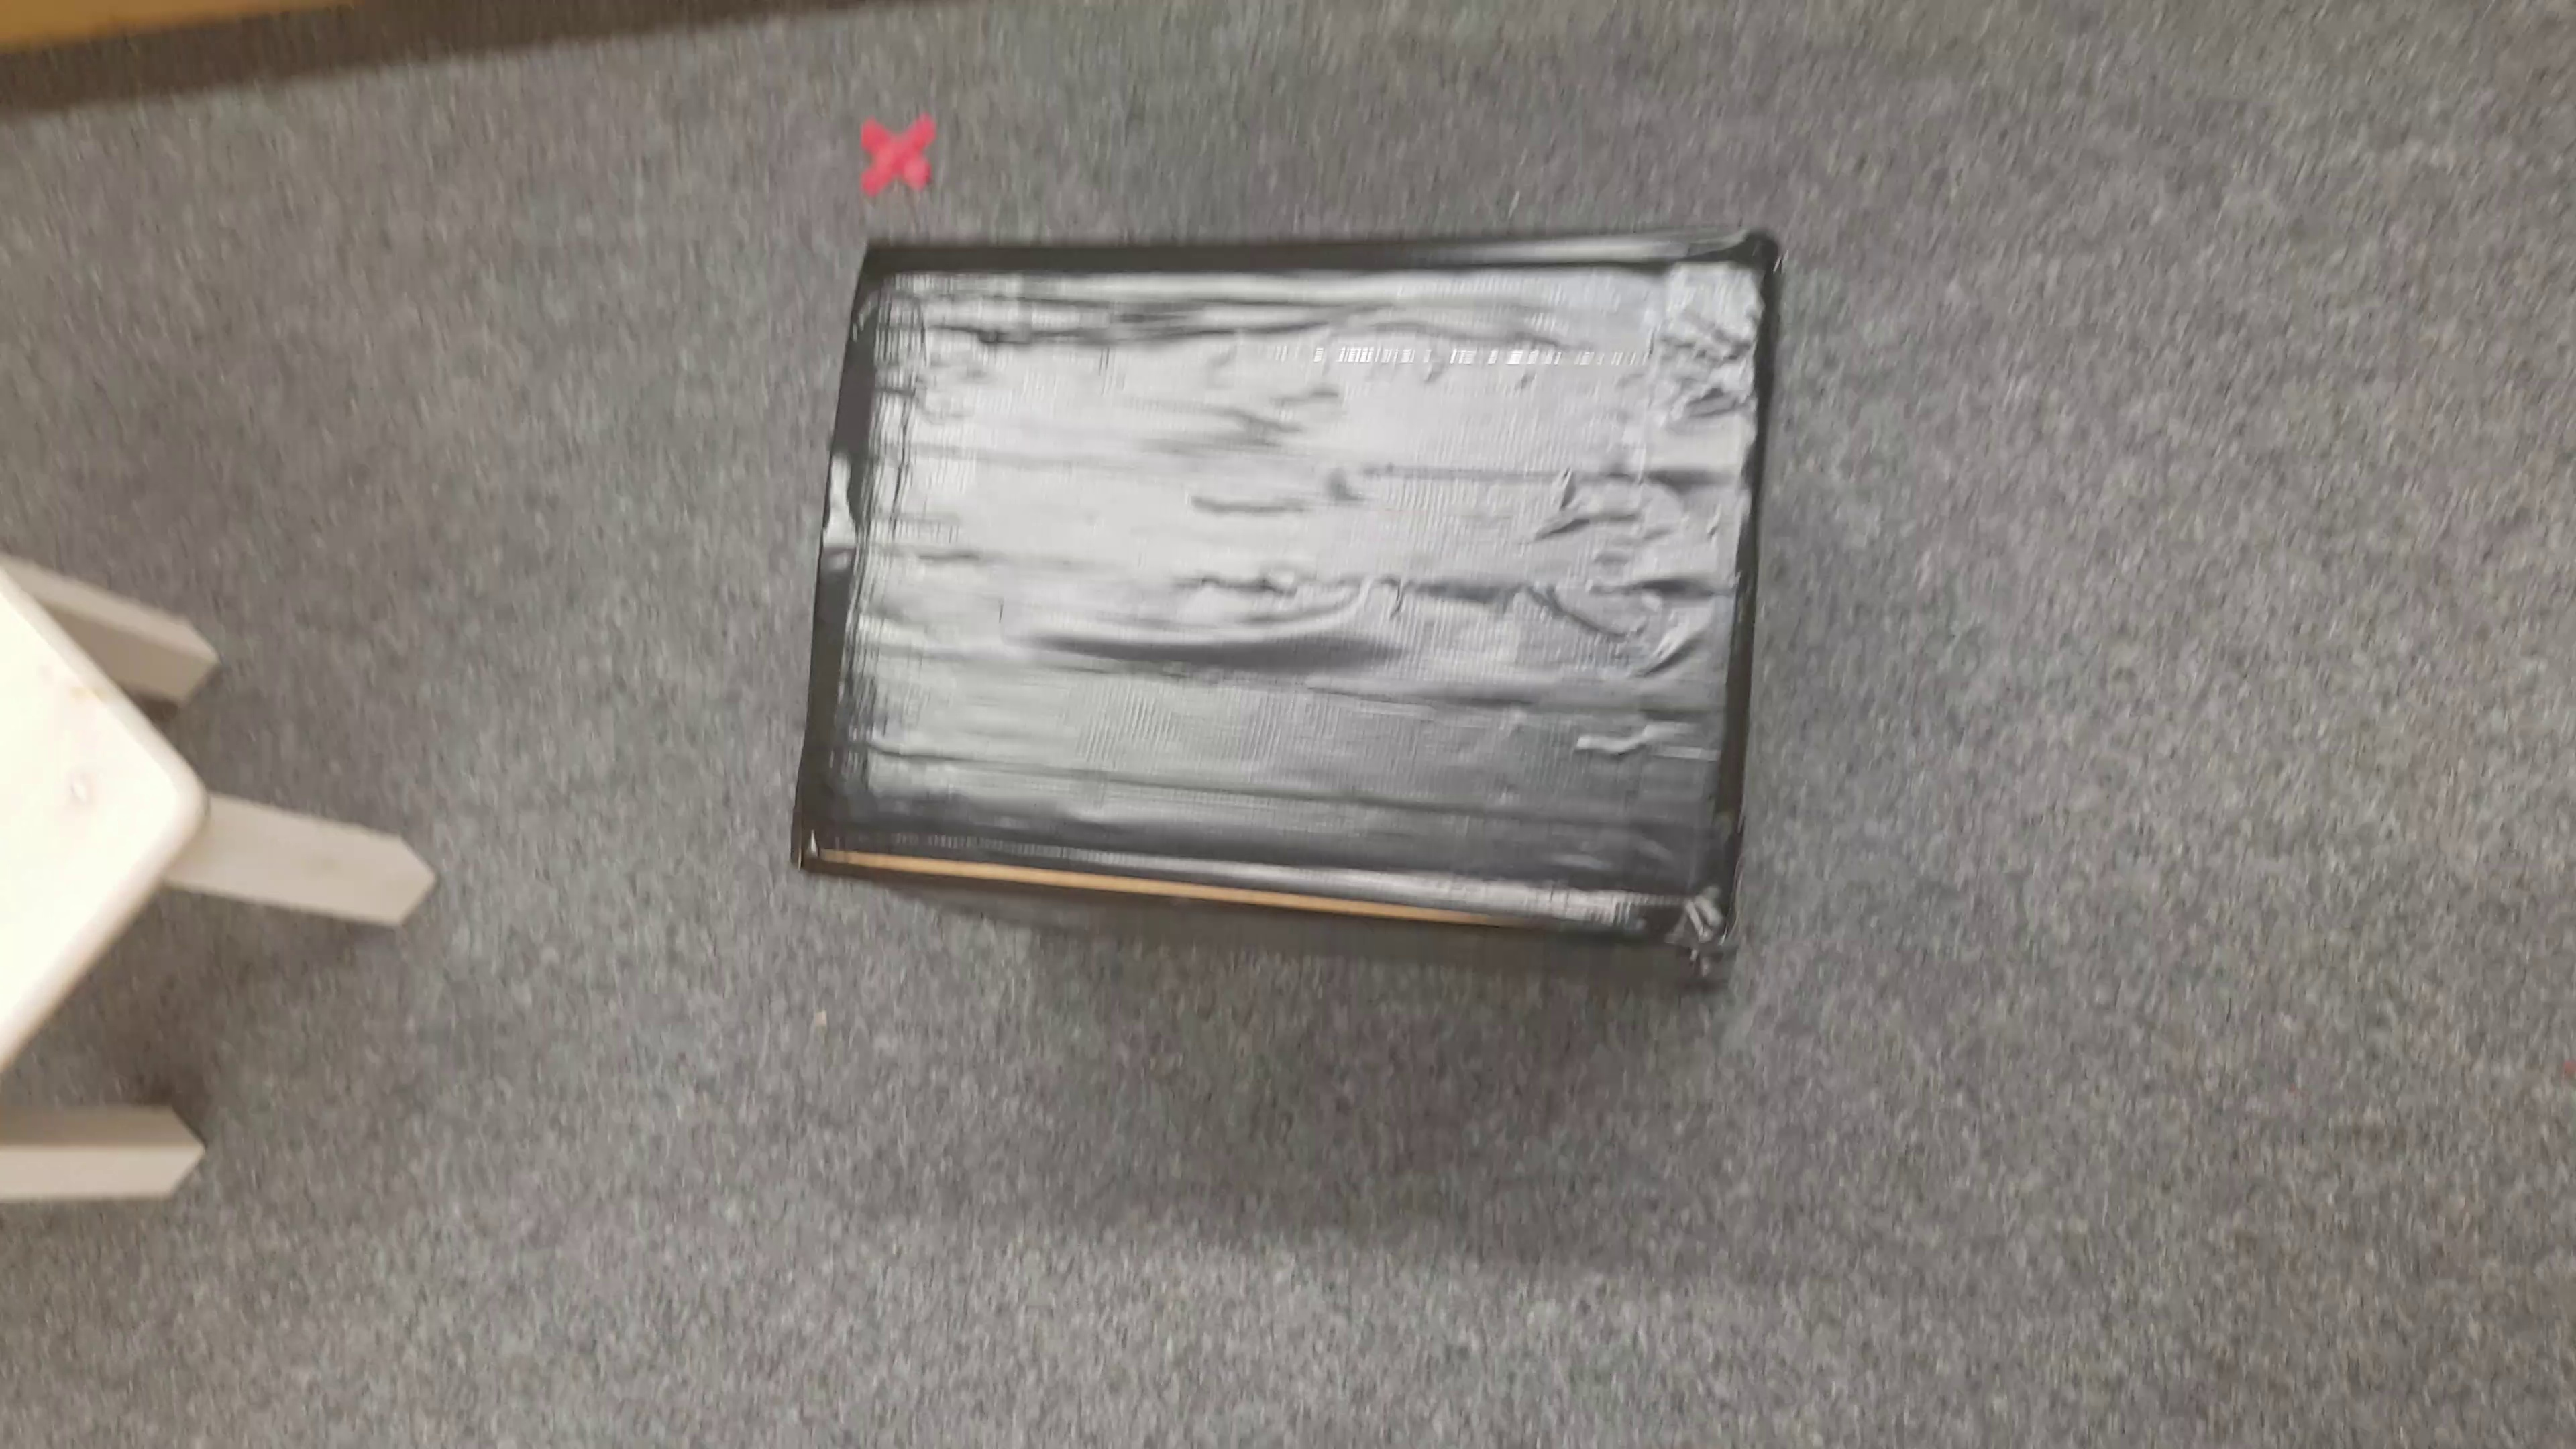push: (794, 239, 1752, 991)
